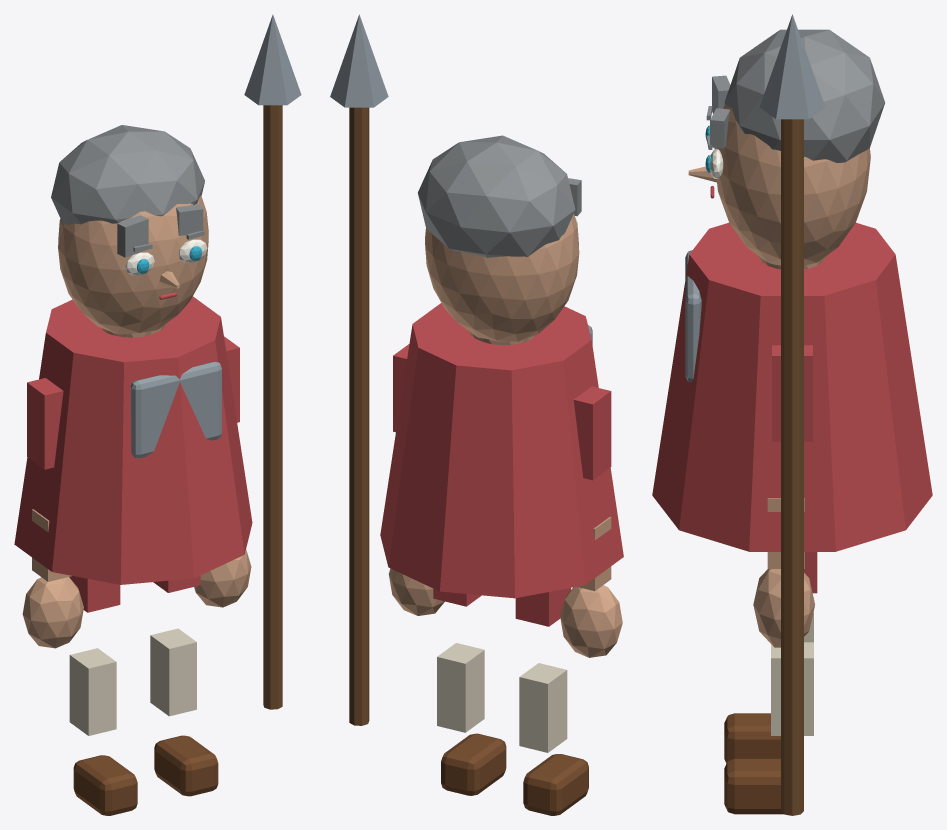
Rendered from sola.glb.
3 renders of one model, left to right at view 1: azimuth 30°, elevation 25°; view 2: azimuth 150°, elevation 25°; view 3: azimuth 270°, elevation 25°, orthographic. The views are drawn at different scales.
Visible parts, largest first — view 1: Tunic, Spear, Head, HairCap, ChestGuard, ShinL, ShinR, HandL, BootR, BootL, SpearTip, UpperArmL (+6 smaller); view 2: Tunic, HairCap, Spear, Head, ShinL, ShinR, HandL, BootR, BootL, SpearTip, UpperArmL, HandR (+3 smaller); view 3: Tunic, Spear, Head, HairCap, SpearTip, BootR, BootL, HandR, ShinR, UpperArmR, ChestGuard, HairFringeR (+1 smaller).
Part boxes in pixels (x1,y1,x2,y2): Tunic: (14, 296, 252, 584); Spear: (263, 105, 282, 709); Head: (58, 196, 208, 334); HairCap: (51, 125, 204, 224); ChestGuard: (130, 362, 221, 458); ShinL: (69, 648, 116, 735); ShinR: (150, 628, 196, 716); HandL: (22, 577, 83, 648); BootR: (154, 735, 218, 796); BootL: (73, 755, 137, 815); SpearTip: (244, 14, 301, 105); UpperArmL: (27, 378, 63, 469); Tunic: (380, 303, 623, 598); HairCap: (418, 135, 575, 257); Spear: (349, 107, 369, 725); Head: (425, 214, 579, 341); ShinL: (519, 663, 567, 752); ShinR: (437, 643, 484, 732); HandL: (560, 585, 622, 657); BootR: (441, 733, 506, 795); BootL: (523, 754, 588, 815); SpearTip: (330, 14, 388, 107); UpperArmL: (573, 386, 611, 480); HandR: (388, 568, 444, 615); Tunic: (652, 222, 932, 551); Spear: (781, 119, 803, 815); Head: (715, 104, 870, 265); HairCap: (724, 29, 885, 162); SpearTip: (759, 14, 825, 119); BootR: (724, 758, 783, 814); BootL: (724, 713, 780, 763); HandR: (753, 569, 814, 647); ShinR: (771, 642, 813, 735); UpperArmR: (772, 345, 812, 441); ChestGuard: (685, 250, 701, 382); HairFringeR: (710, 108, 729, 148).
Size of the model in its own units: 0.8749 by 2.27 by 0.68.
